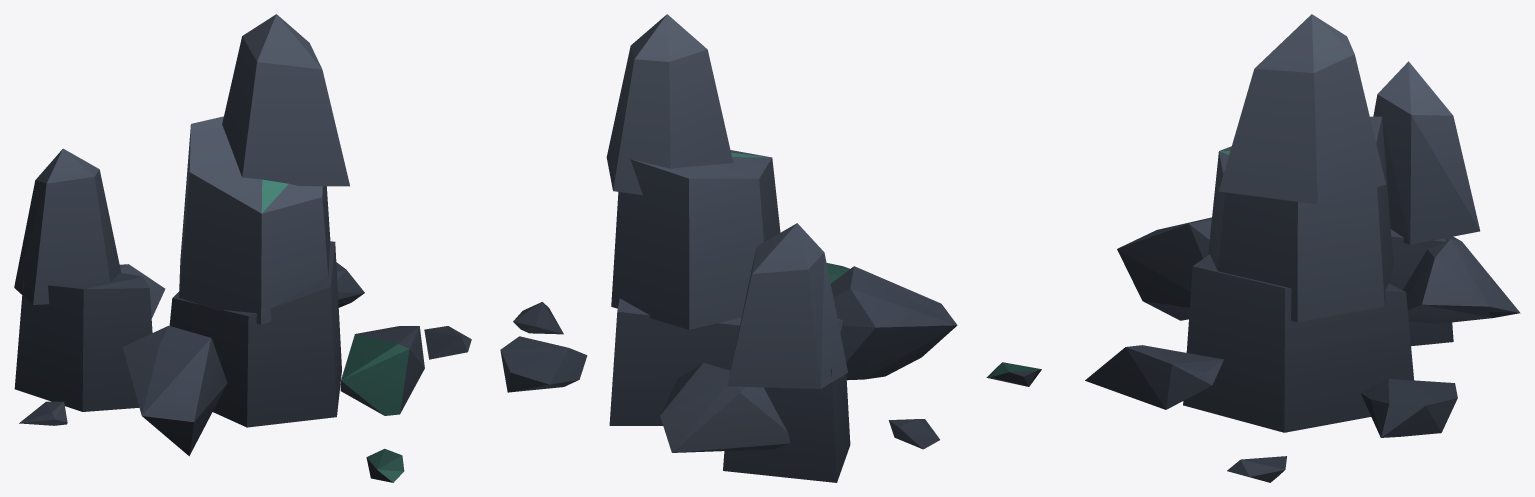
Rendered from rock_a.glb.
3 views of the same model, side by side, from view 1: azimuth 30°, elevation 25°; view 2: azimuth 150°, elevation 25°; view 3: azimuth 270°, elevation 25° (orthographic). The views are drawn at different scales.
Visible parts, largest first — view 1: rock_a; view 2: rock_a; view 3: rock_a.
Part boxes in pixels (bbox=[...]): rock_a: bbox=[14, 14, 471, 482]; rock_a: bbox=[500, 14, 957, 482]; rock_a: bbox=[986, 14, 1520, 482].
Bounding box in the file's own units: 2.85 × 2.3 × 2.85.
1 material, 1 textured.
